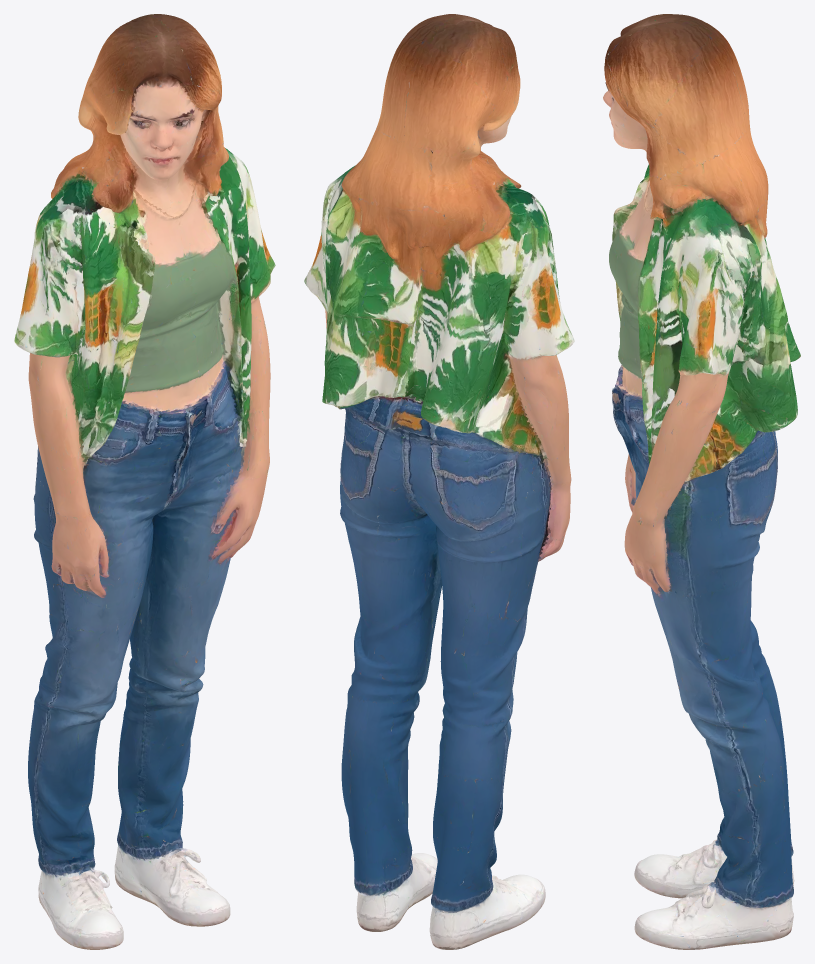
Rendered from woman-leaf.glb.
The picture shows the model from 3 angles, left to right: view 1: azimuth 30°, elevation 25°; view 2: azimuth 150°, elevation 25°; view 3: azimuth 270°, elevation 25°; orthographic projection. The views are drawn at different scales.
Parts seen in each view (by area): view 1: Object_5; view 2: Object_5; view 3: Object_5.
Boxes of the visible parts, box(x1,y1,x2,y2) form: Object_5: box(14, 14, 275, 949); Object_5: box(304, 14, 574, 949); Object_5: box(603, 14, 800, 949).
Bounding box in the file's own units: 0.5796 × 1.9 × 0.3777.
Materials: 1 (1 with a texture image).
